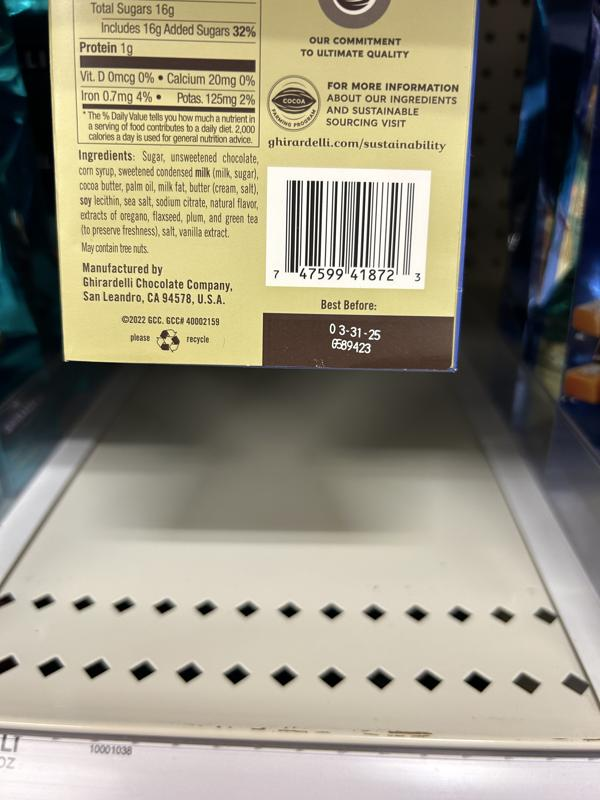ingredients: (77, 148, 260, 240)
